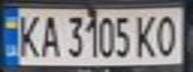0: (97, 12, 118, 59)
1: (81, 12, 100, 59)
3: (63, 12, 84, 59)
5: (112, 12, 136, 59)
A: (36, 11, 63, 58)
K: (12, 11, 42, 60), (133, 11, 160, 58)
O: (151, 11, 184, 57)
